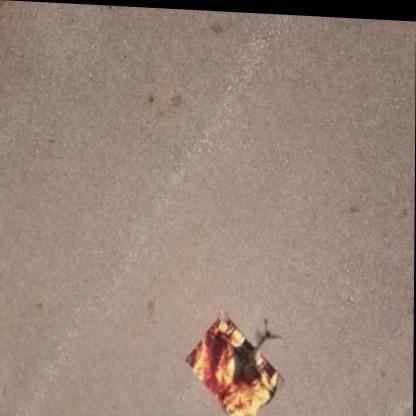fire-poster: (185, 305, 284, 416)
